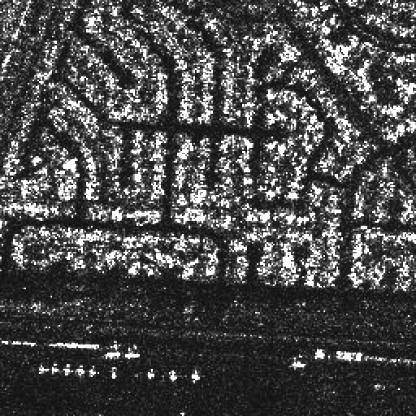airplane: (107, 364, 119, 379), (86, 364, 99, 377), (190, 369, 202, 382), (166, 368, 178, 380), (61, 362, 72, 374), (145, 367, 156, 379), (74, 362, 84, 374), (51, 361, 58, 372), (37, 366, 47, 372), (61, 413, 72, 414)
